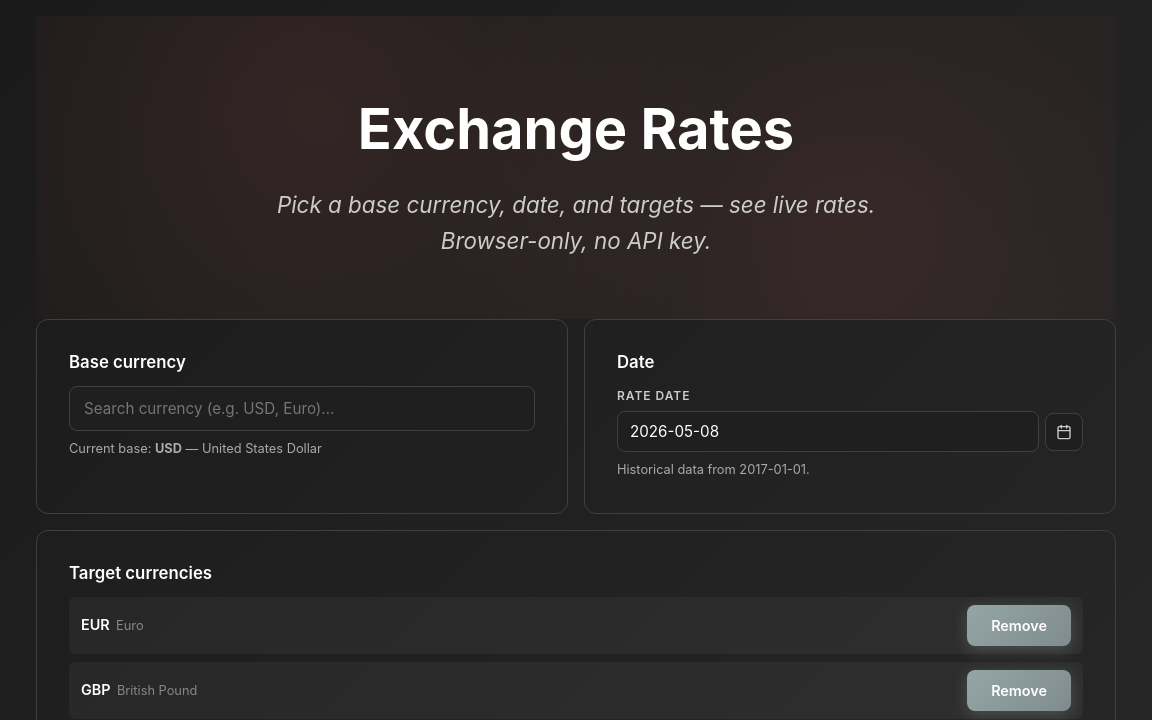
Scenario: <ExchangeRates /> › adding a target currency appends it to the list
Click the button with aria-label "remove eur" at point(1019, 625), box top-left (967, 605), bottom-right (1071, 646)
(page scrolled)
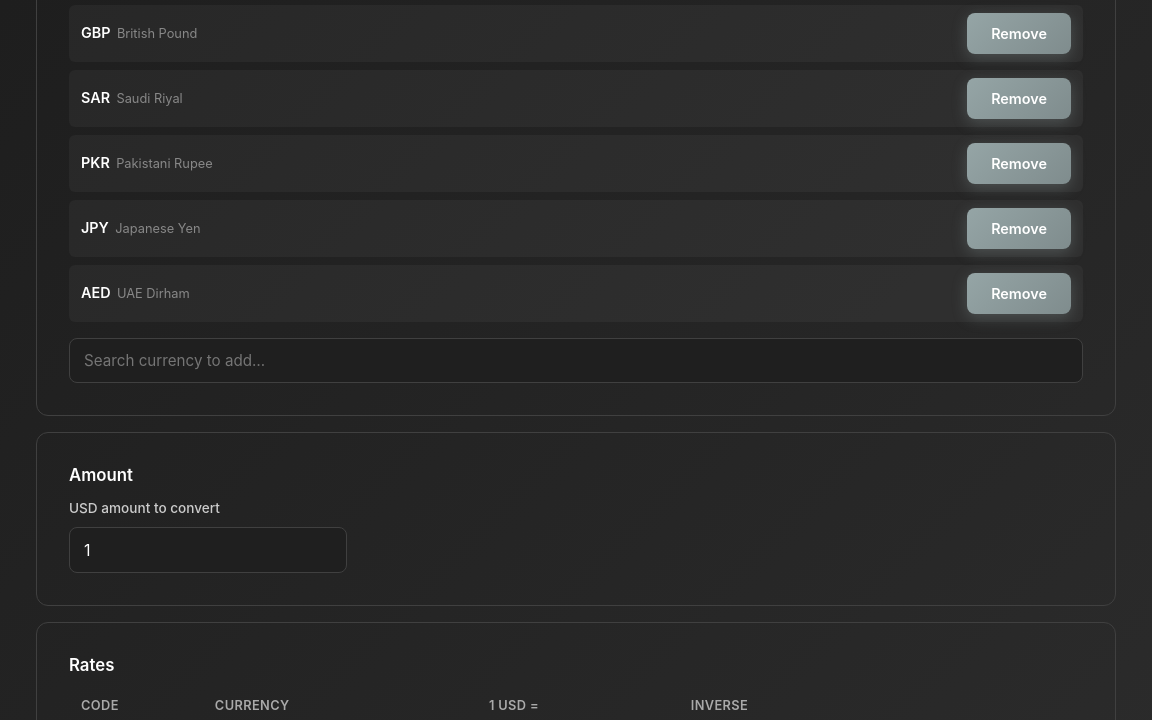
Expected: the button "remove eur" is not shown
Type "EUR" into the dropdown with placeholder "Search currency to add…" at point(576, 360), box top-left (69, 338), bottom-right (1083, 383)
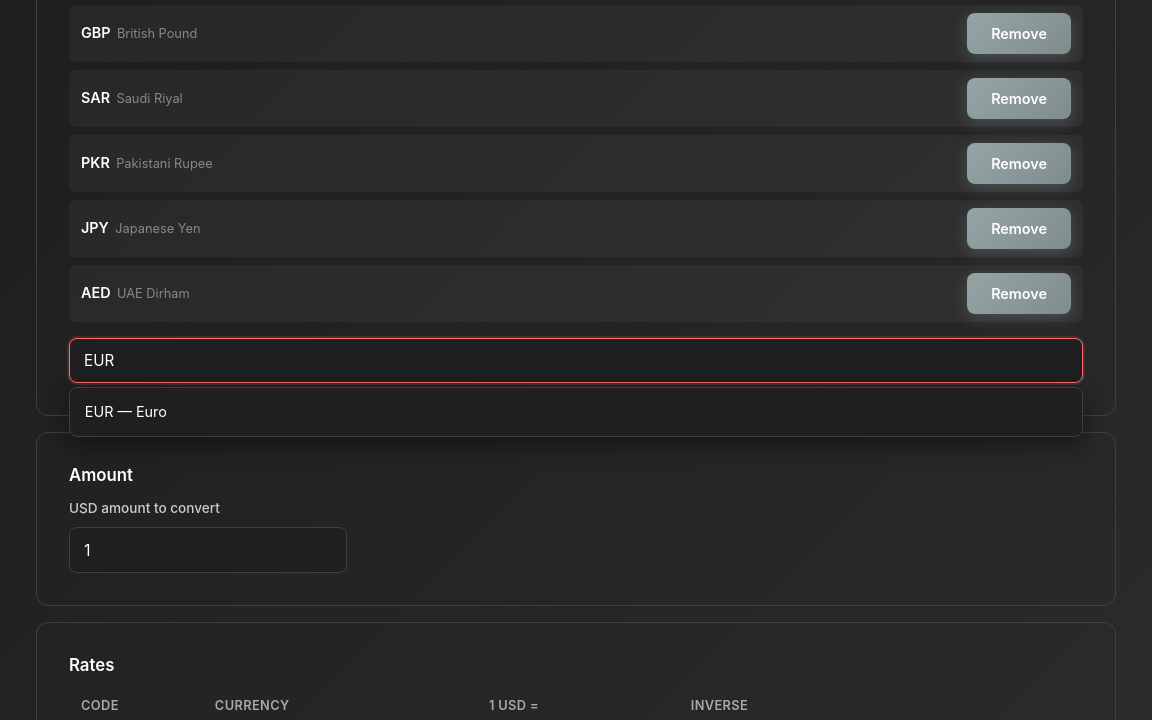
Click the option "EUR — Euro" at point(126, 412), box top-left (85, 403), bottom-right (167, 420)
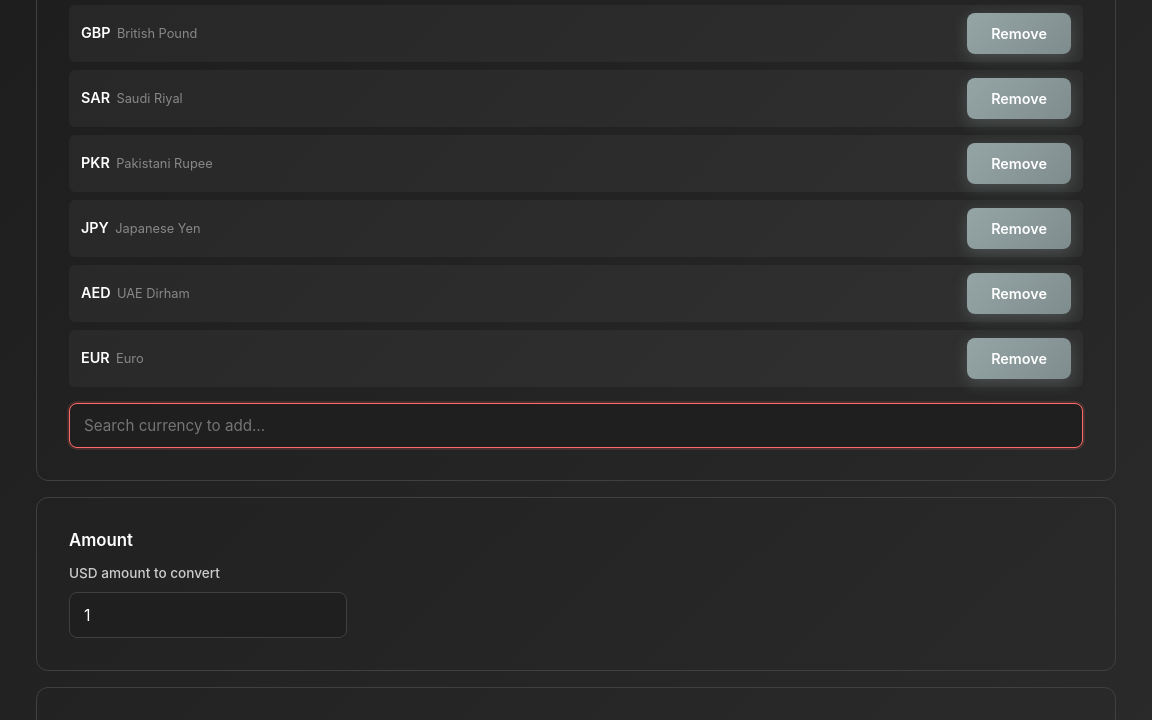
Now the button with aria-label "remove eur" is shown, box top-left (967, 338), bottom-right (1071, 379)
